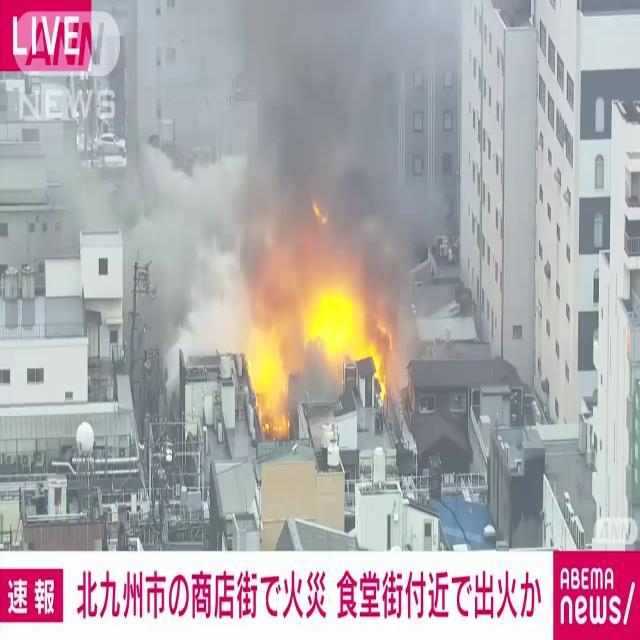Fire: (240, 215, 392, 434)
Smoke: (216, 0, 452, 294)
